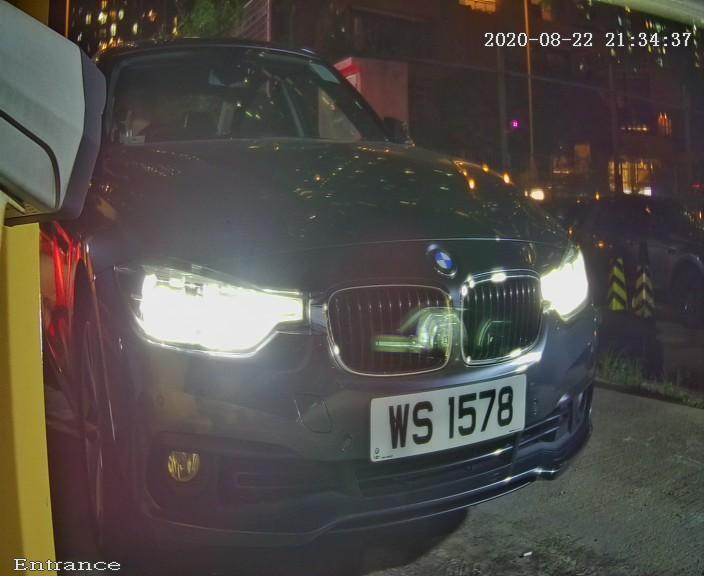Car: (10, 3, 651, 566)
License Plate: (329, 350, 557, 480)
